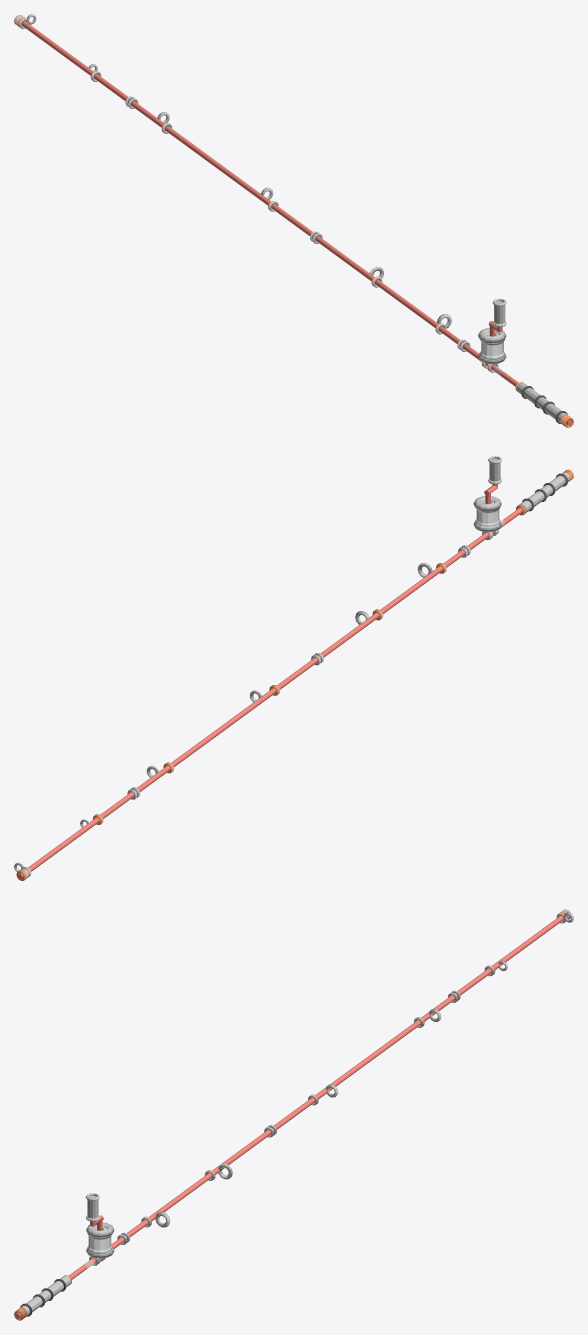
Rendered from fishing_rod.glb.
The picture shows the model from 3 angles, top to bottom: view 1: azimuth 30°, elevation 25°; view 2: azimuth 150°, elevation 25°; view 3: azimuth 330°, elevation 25°; orthographic projection.
Parts seen in each view (by area): view 1: MWC_fishing_rod; view 2: MWC_fishing_rod; view 3: MWC_fishing_rod.
Part boxes in pixels (left/top/right/bottom): MWC_fishing_rod: left=14, top=14, right=573, bottom=427; MWC_fishing_rod: left=14, top=456, right=573, bottom=880; MWC_fishing_rod: left=14, top=909, right=573, bottom=1320.
Size of the model in its own units: 0.0311 by 0.0837 by 1.1.
1 material, 1 textured.
